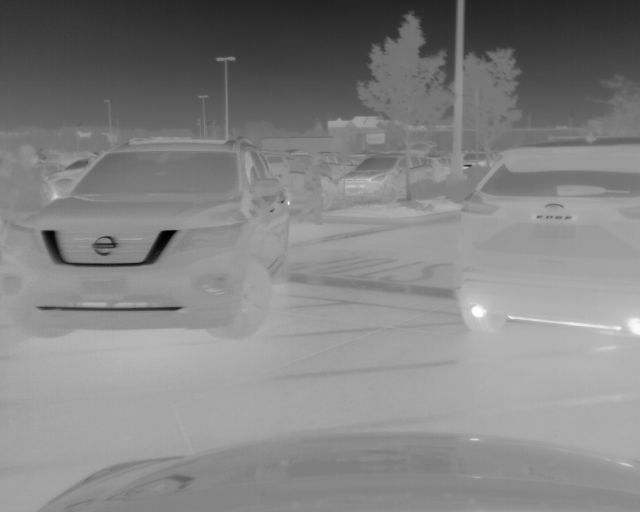car: (7, 136, 287, 340), (451, 136, 640, 342), (335, 149, 443, 204), (263, 151, 338, 214), (40, 155, 97, 198), (460, 150, 489, 169)
people: (4, 141, 44, 211), (298, 154, 326, 225)
